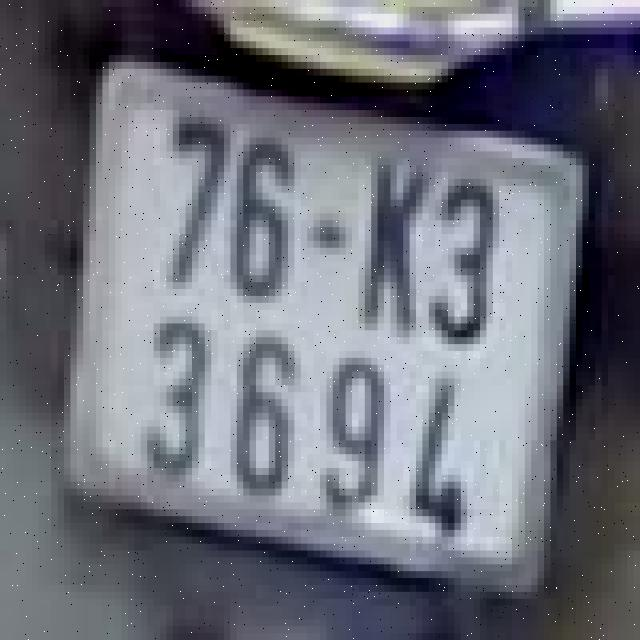3: (134, 300, 212, 478), (438, 176, 502, 362)
4: (409, 358, 474, 544)
6: (227, 117, 304, 317), (221, 320, 304, 499)
7: (156, 106, 234, 292)
9: (320, 358, 390, 523)
K: (355, 144, 426, 351)
